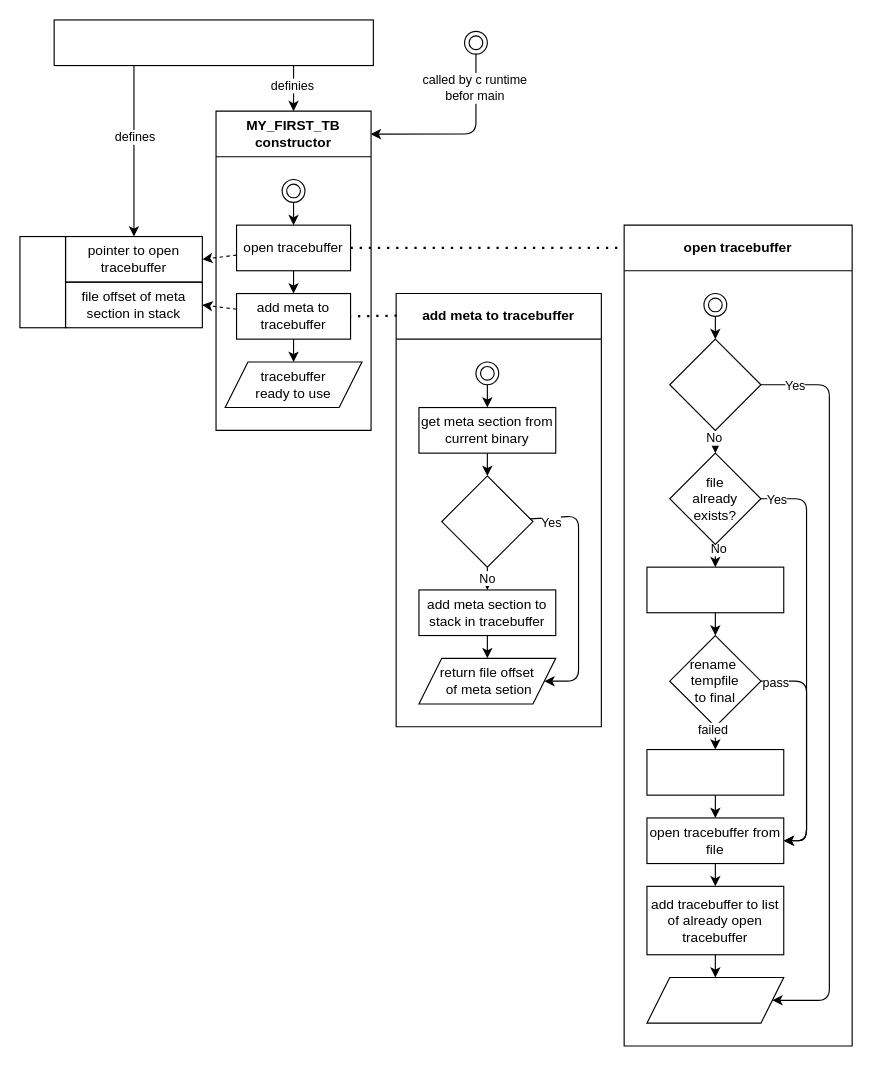
Some shapes in this 872 by 1066 pixel diagram are drawn without their labels. The centre of each missing label's shape, as x and y in pixels:
CLTK_TACEBUFFER(MY_FIRST_TB): (213,42)
create tempfile and init it: (715,589)
delete unused tempfile: (715,771)
meta section already in stack in tracebuffer?: (487,521)
return tracebuffer handler: (715,999)
tracebuffer already open?: (715,384)
tracebuffer handler: (42,281)
